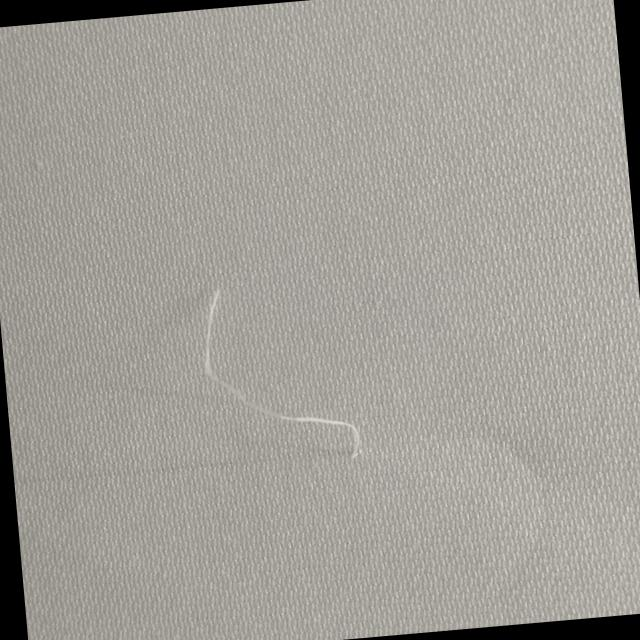Thread: (193, 274, 364, 473)
